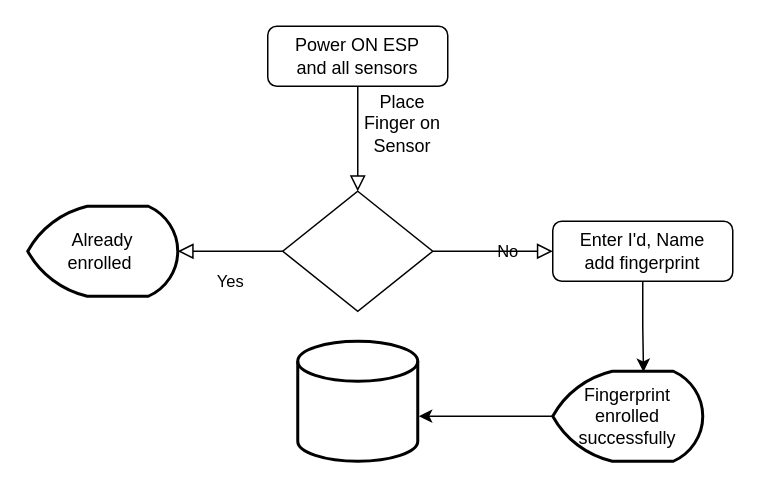
Image size: 759x489. Some labels were removed from this diagram. Here are the shapes that lost their labels. From the top down, the box of each, then its label:
(281, 190, 433, 311): Is Fingerprint Enrolled ?
(296, 339, 418, 462): Fingerprint stored in Google Sheets
